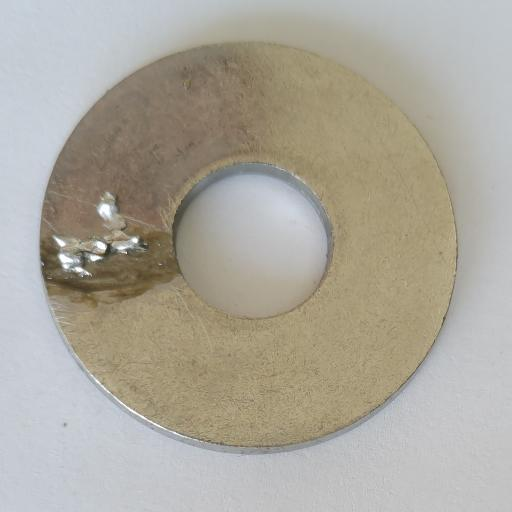excess_material: (52, 191, 148, 278)
